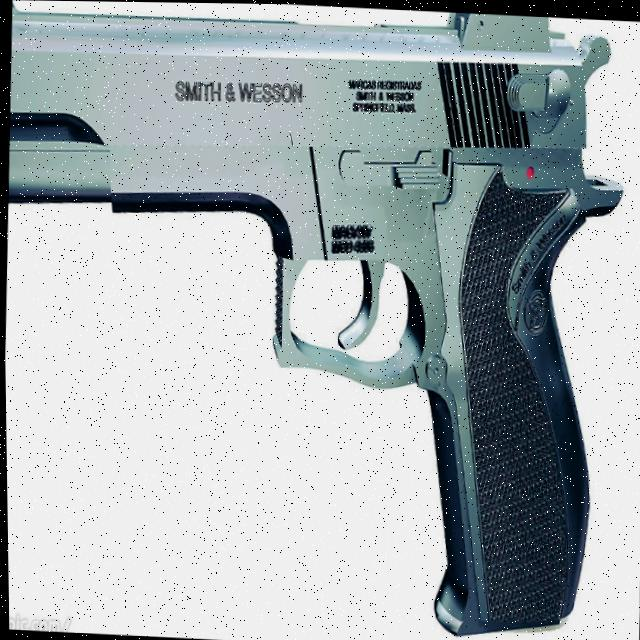pistol: (0, 0, 632, 638)
